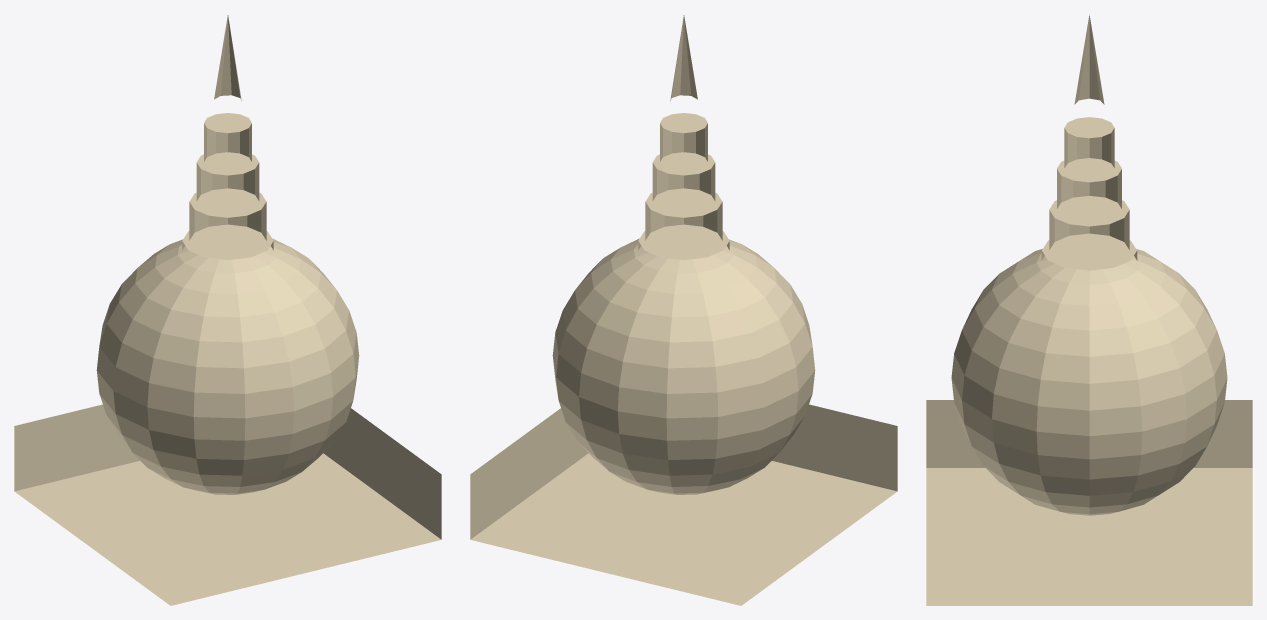
The model's file is buddha-stupa.glb.
3 renders of one model, left to right at view 1: azimuth 30°, elevation 25°; view 2: azimuth 150°, elevation 25°; view 3: azimuth 270°, elevation 25°, orthographic. The views are drawn at different scales.
Visible parts, largest first — view 1: buddha-stupa.glb; view 2: buddha-stupa.glb; view 3: buddha-stupa.glb.
Boxes of the visible parts, x1,y1,x2,y2 form: buddha-stupa.glb: (14,15,441,605); buddha-stupa.glb: (470,15,897,605); buddha-stupa.glb: (926,14,1252,605).
Size of the model in its own units: 1.3 by 2.3 by 1.3.
